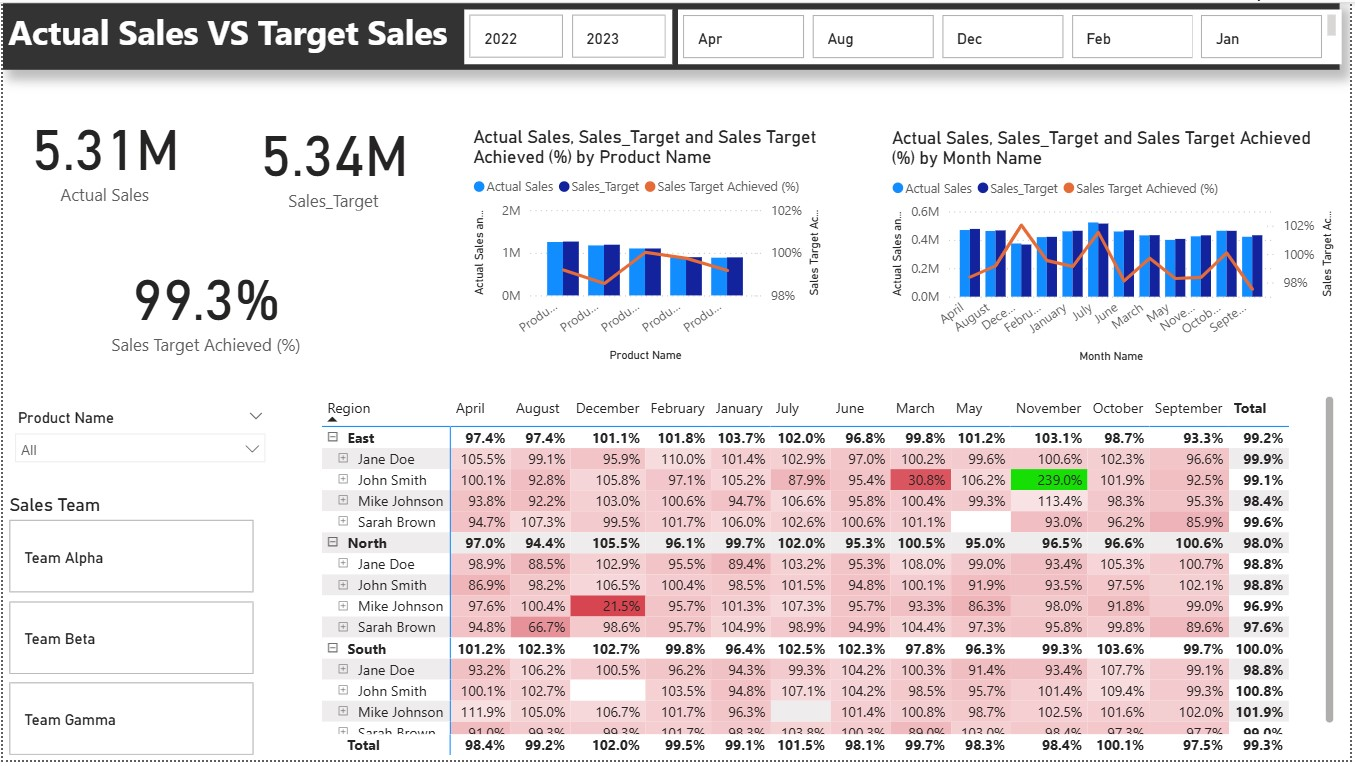

Layout of this report page (visuals, bound fields, positions):
{"tool":"powerbi","page":{"name":"Page 1","canvas":[1280,720],"ordinal":0},"visuals":[{"type":"textbox","box":[0,1.4,1269.6,63.5],"z":0},{"type":"card","fields":{"Values":["actual_vs_target_sales_dataset.Actual Sales"]},"box":[0,87.9,193.5,112.8],"z":1000},{"type":"card","fields":{"Values":["actual_vs_target_sales_dataset.Sales Target Achivment"]},"box":[1.2,226.8,383.5,119.9],"z":2000},{"type":"card","fields":{"Values":["actual_vs_target_sales_dataset.Sales_Target"]},"box":[225.6,97.4,176.9,105.7],"z":3000},{"type":"lineClusteredColumnComboChart","fields":{"Category":["Date.Month Name","Date.Quarter Name"],"Y":["actual_vs_target_sales_dataset.Actual Sales","actual_vs_target_sales_dataset.Sales_Target"],"Y2":["actual_vs_target_sales_dataset.Sales Target Achieved (%)"]},"box":[839.5,118.7,429.8,229.2],"z":4000},{"type":"lineClusteredColumnComboChart","fields":{"Category":["actual_vs_target_sales_dataset.Product Name"],"Y":["actual_vs_target_sales_dataset.Actual Sales","actual_vs_target_sales_dataset.Sales_Target"],"Y2":["actual_vs_target_sales_dataset.Sales Target Achieved (%)"]},"box":[441.7,117.5,340.8,229.2],"z":5000},{"type":"pivotTable","fields":{"Rows":["actual_vs_target_sales_dataset.Region","actual_vs_target_sales_dataset.Sales Representative","actual_vs_target_sales_dataset.Sales Team"],"Columns":["Date.Month Name"],"Values":["actual_vs_target_sales_dataset.Sales Target Achieved (%)"]},"box":[298,369.3,971.3,351.5],"z":6000},{"type":"advancedSlicerVisual","fields":{"Values":["Date.Month Name Short"]},"box":[640.7,7.1,630,51.6],"z":7000},{"type":"advancedSlicerVisual","fields":{"Values":["Date.Year"]},"box":[437.8,7.1,197.6,51.6],"z":8000},{"type":"slicer","fields":{"Values":["actual_vs_target_sales_dataset.Product Name"]},"box":[1.8,380.9,258.1,71.2],"z":9000},{"type":"advancedSlicerVisual","fields":{"Values":["actual_vs_target_sales_dataset.Sales Team"]},"box":[1.8,468.1,242.1,252.7],"z":10000}]}

Visuals, with their boxes in screenshot pixels (x1, y1, x2, y2), scaled from the page's 1280x720 canvas onto the 1355x766 screenshot:
textbox: <region>0, 1, 1344, 69</region>
card - actual_vs_target_sales_dataset.Actual Sales: <region>0, 94, 205, 214</region>
card - actual_vs_target_sales_dataset.Sales Target Achivment: <region>1, 241, 407, 369</region>
card - actual_vs_target_sales_dataset.Sales_Target: <region>239, 104, 426, 216</region>
lineClusteredColumnComboChart - Date.Month Name x Date.Quarter Name: <region>889, 126, 1344, 370</region>
lineClusteredColumnComboChart - actual_vs_target_sales_dataset.Product Name x actual_vs_target_sales_dataset.Actual Sales: <region>468, 125, 828, 369</region>
pivotTable - actual_vs_target_sales_dataset.Region x actual_vs_target_sales_dataset.Sales Representative: <region>315, 393, 1344, 765</region>
advancedSlicerVisual - Date.Month Name Short: <region>678, 8, 1345, 62</region>
advancedSlicerVisual - Date.Year: <region>463, 8, 673, 62</region>
slicer - actual_vs_target_sales_dataset.Product Name: <region>2, 405, 275, 481</region>
advancedSlicerVisual - actual_vs_target_sales_dataset.Sales Team: <region>2, 498, 258, 765</region>
